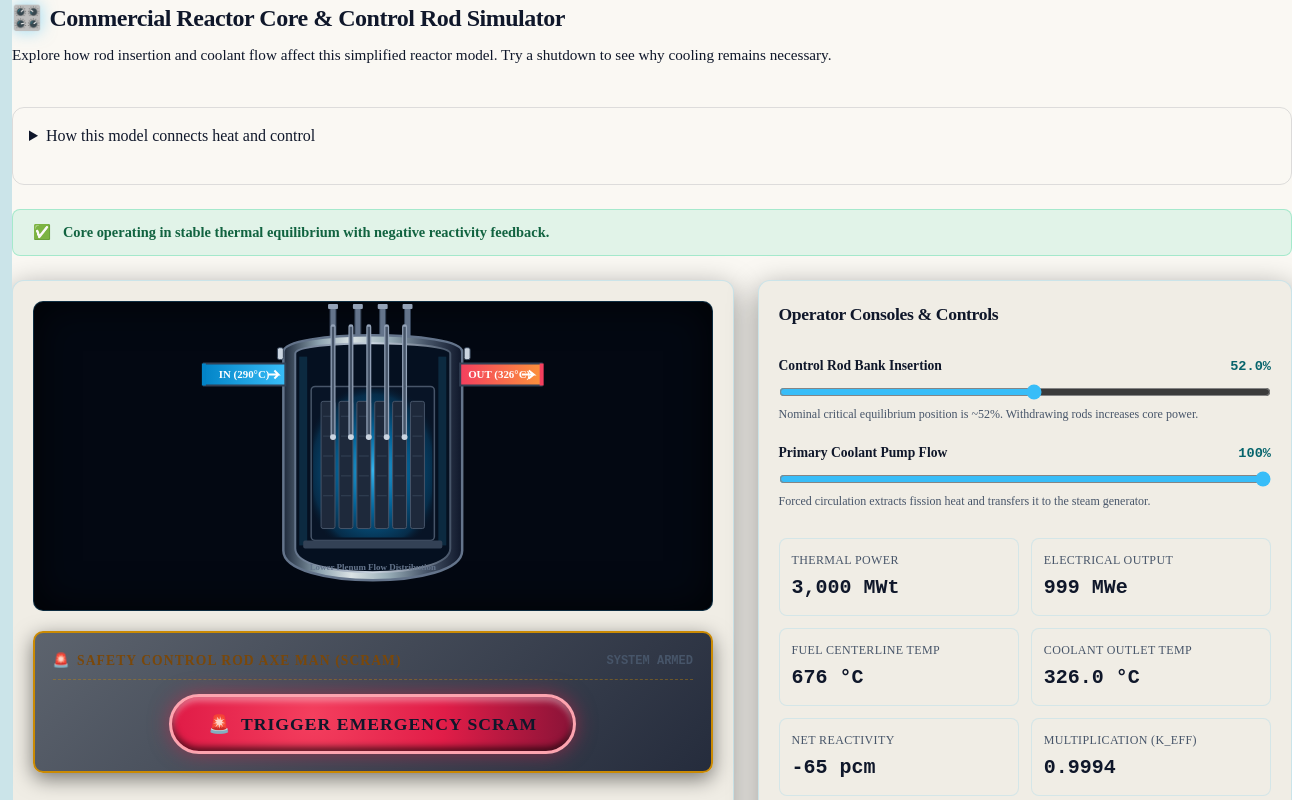
ReactorControlSimulator › updates control rod insertion and adjusts power
This screenshot has width=1292, height=800.
Set the slider named "Control Rod Bank Insertion Percentage" to "30.0" at (929, 392), box [778, 384, 1271, 400]
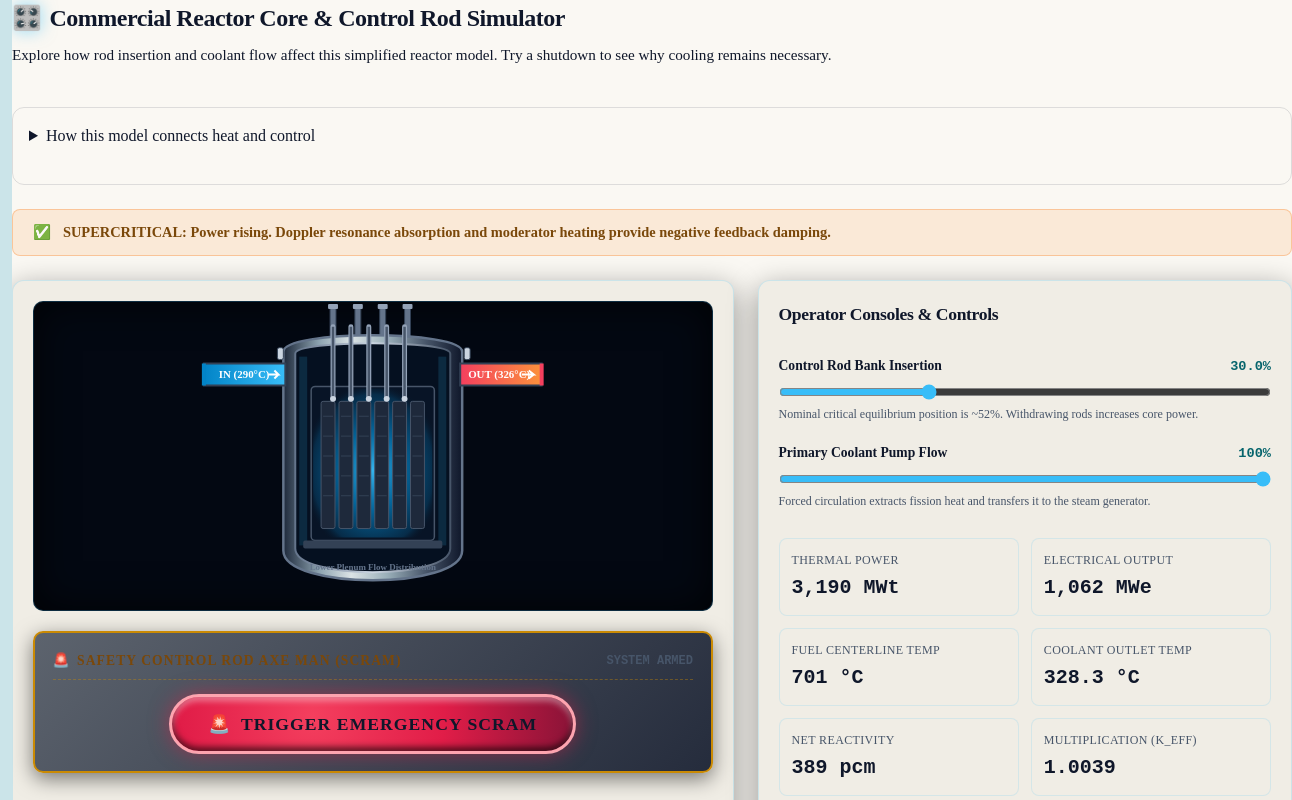
Check: the text "30.0%" is shown, box [1230, 357, 1271, 377]
